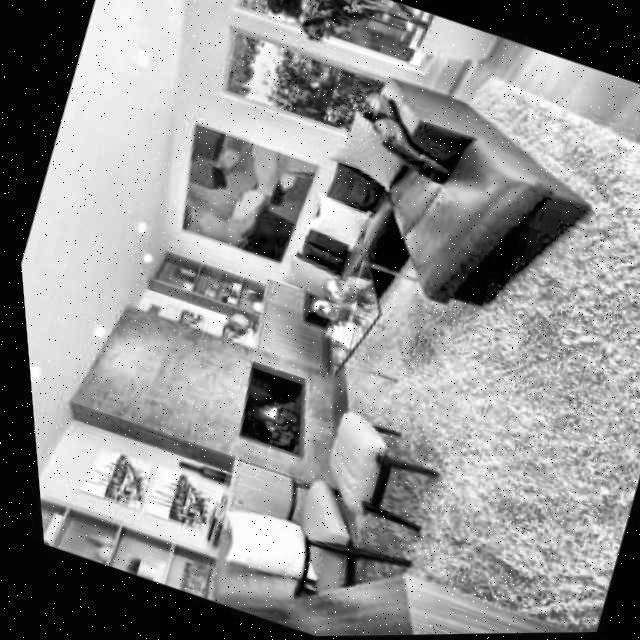Fire: (239, 391, 286, 434)
